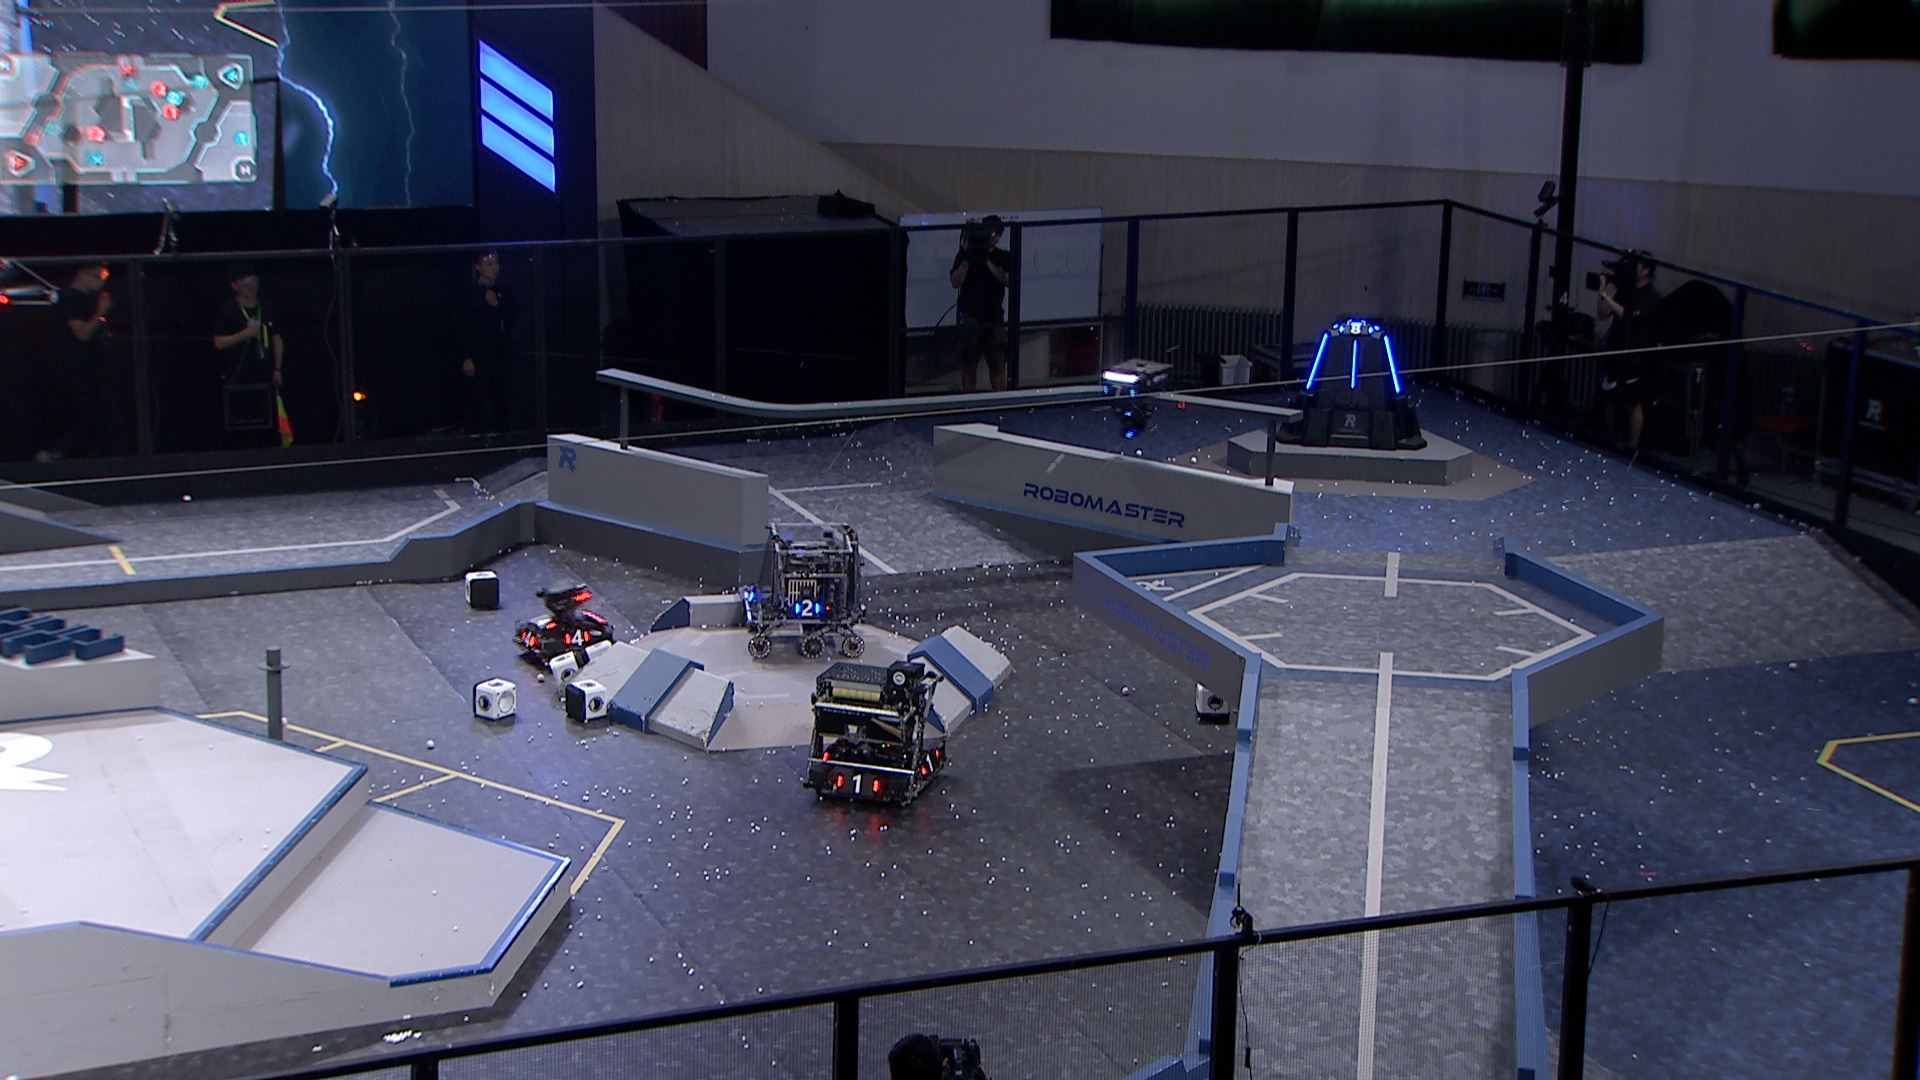armor: (1302, 334, 1331, 392), (1382, 334, 1400, 396), (835, 771, 880, 794), (793, 597, 825, 621), (1097, 382, 1138, 401), (1348, 338, 1361, 390), (920, 746, 942, 779), (1335, 322, 1375, 338), (560, 626, 589, 647), (533, 616, 558, 632), (741, 585, 760, 605), (517, 632, 538, 647)
base: (1275, 318, 1428, 454)
car: (802, 659, 945, 811), (736, 517, 868, 661), (512, 576, 618, 665)
watcher: (1096, 357, 1171, 436)
